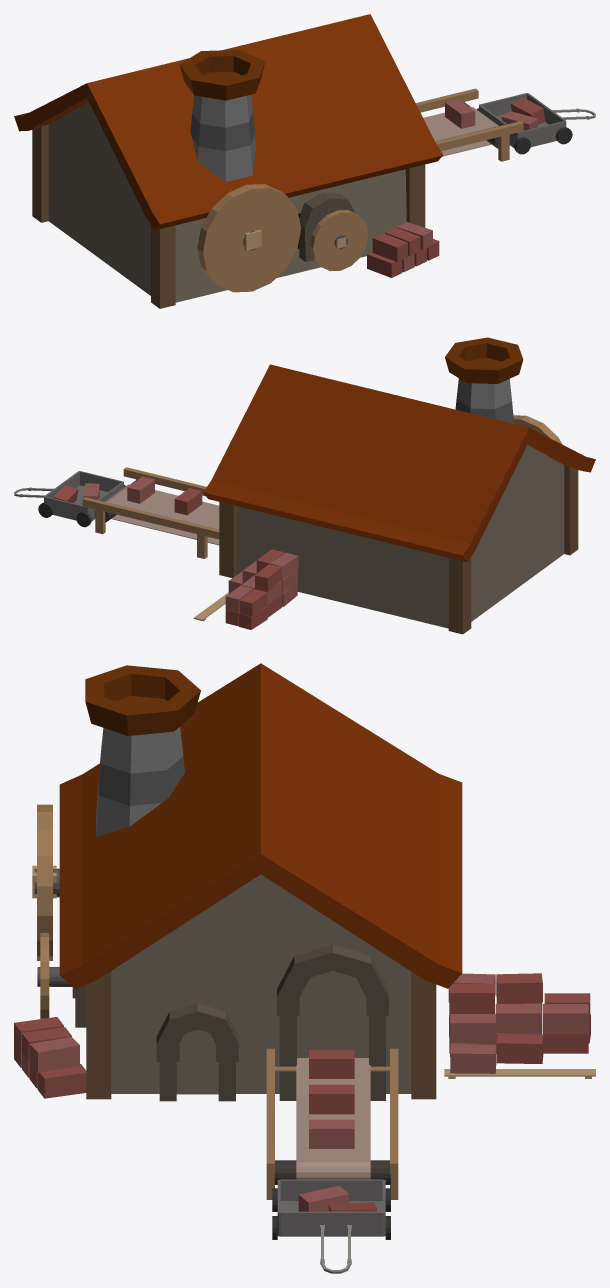
Rendered from bick_factory.glb.
3 renders of one model, top to bottom at view 1: azimuth 30°, elevation 25°; view 2: azimuth 150°, elevation 25°; view 3: azimuth 270°, elevation 25°, orthographic. The views are drawn at different scales.
Parts seen in each view (by area): view 1: casa, Cylinder.005, chamine, Cylinder.006, Cube.003, Cube.014, Cube.019, Cube.002, porta peq.001, Plane.001, Cube.010, Cube.004 (+5 smaller); view 2: casa, chamine, Plane.001, Cube.017, Cube.002, Cube.014, Cube.001, Cube.003, Cube.010, Cube.012, Cube.035, Cube.013 (+5 smaller); view 3: casa, chamine, porta grande, Plane.001, Cube.014, porta peq, Cube.004, Cube.001, Cube.019, Cylinder.005, Cube.008, Cube.012 (+16 smaller).
Part boxes in pixels (x1,y1,x2,y2): casa: [14, 14, 443, 302]; Cylinder.005: [197, 184, 301, 292]; chamine: [179, 50, 265, 181]; Cylinder.006: [310, 210, 368, 271]; Cube.003: [151, 225, 175, 308]; Cube.014: [479, 93, 566, 148]; Cube.019: [372, 222, 432, 261]; Cube.002: [32, 124, 48, 222]; porta peq.001: [299, 192, 354, 261]; Plane.001: [423, 106, 498, 156]; Cube.010: [435, 121, 523, 161]; Cube.004: [405, 164, 425, 227]; casa: [203, 364, 595, 628]; chamine: [445, 337, 523, 423]; Plane.001: [105, 484, 219, 545]; Cube.017: [82, 497, 219, 558]; Cube.002: [448, 557, 471, 634]; Cube.014: [44, 471, 123, 521]; Cube.001: [219, 502, 237, 577]; Cube.003: [564, 465, 578, 555]; Cube.010: [123, 467, 206, 496]; Cube.012: [174, 488, 202, 515]; Cube.035: [239, 589, 267, 616]; Cube.013: [127, 476, 154, 503]; casa: [59, 663, 462, 1093]; chamine: [85, 665, 200, 836]; porta grande: [277, 944, 388, 1100]; Plane.001: [296, 1058, 370, 1179]; Cube.014: [277, 1179, 385, 1236]; porta peq: [156, 1003, 238, 1101]; Cube.004: [86, 971, 111, 1099]; Cube.001: [411, 972, 436, 1099]; Cube.019: [14, 1017, 79, 1072]; Cylinder.005: [37, 804, 52, 960]; Cube.008: [14, 1043, 86, 1098]; Cube.012: [309, 1084, 354, 1114].
Size of the model in its own units: 10.6 by 3.93 by 7.24.
